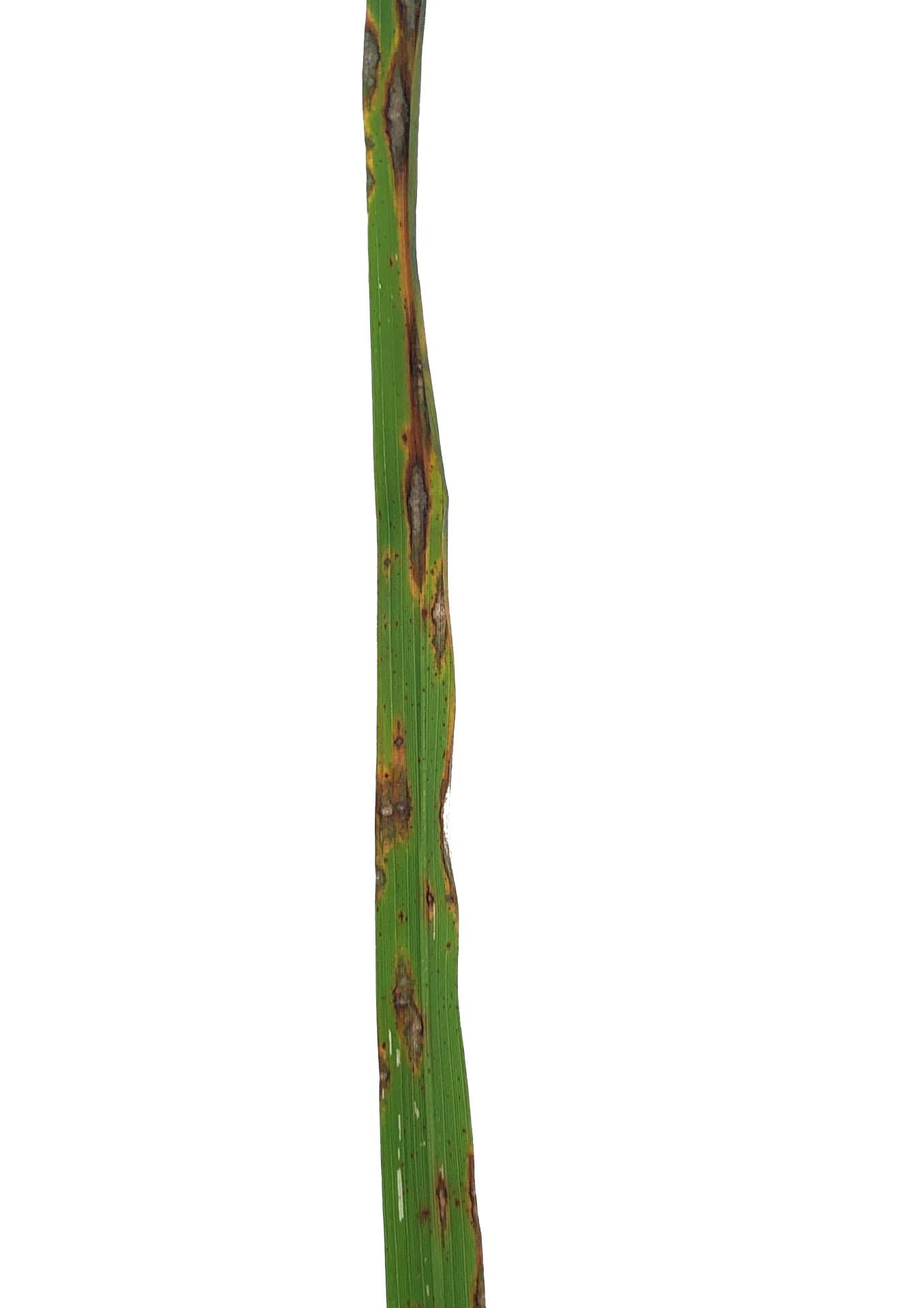Rice blast: (348, 3, 474, 613)
